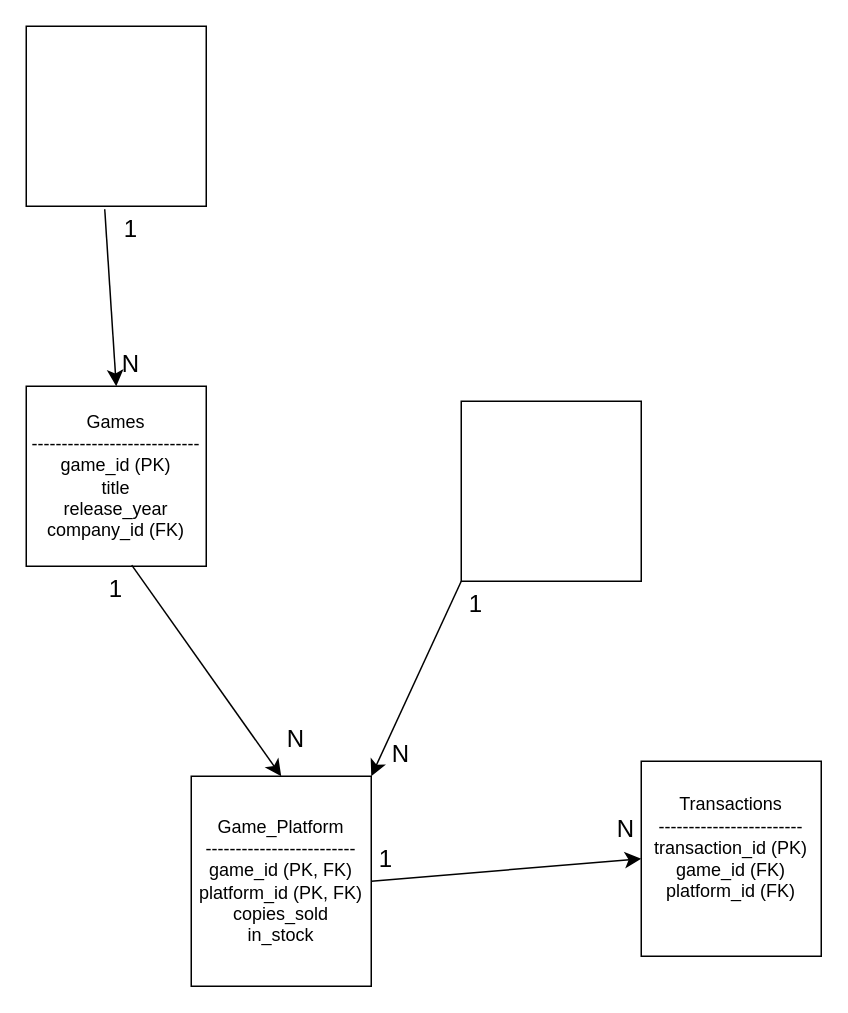
This 848x1013 diagram has some shape labels left out. Here are the shapes that lost their labels. From the top down, the centre of each, then its label:
At pixel 115 115: "Companies -------------------------- company_id (PK) name".
At pixel 550 490: "Platforms ------------------------- platform_id (PK) name".
